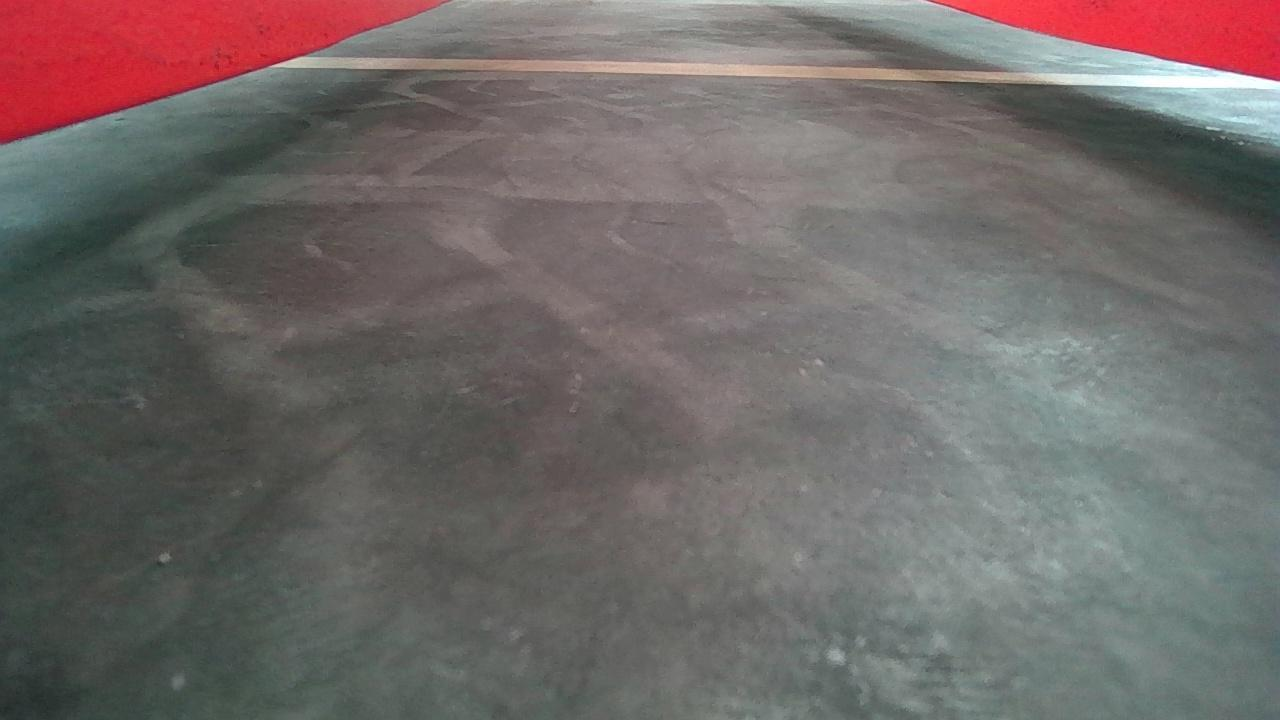yellow_line: (275, 52, 1277, 86)
